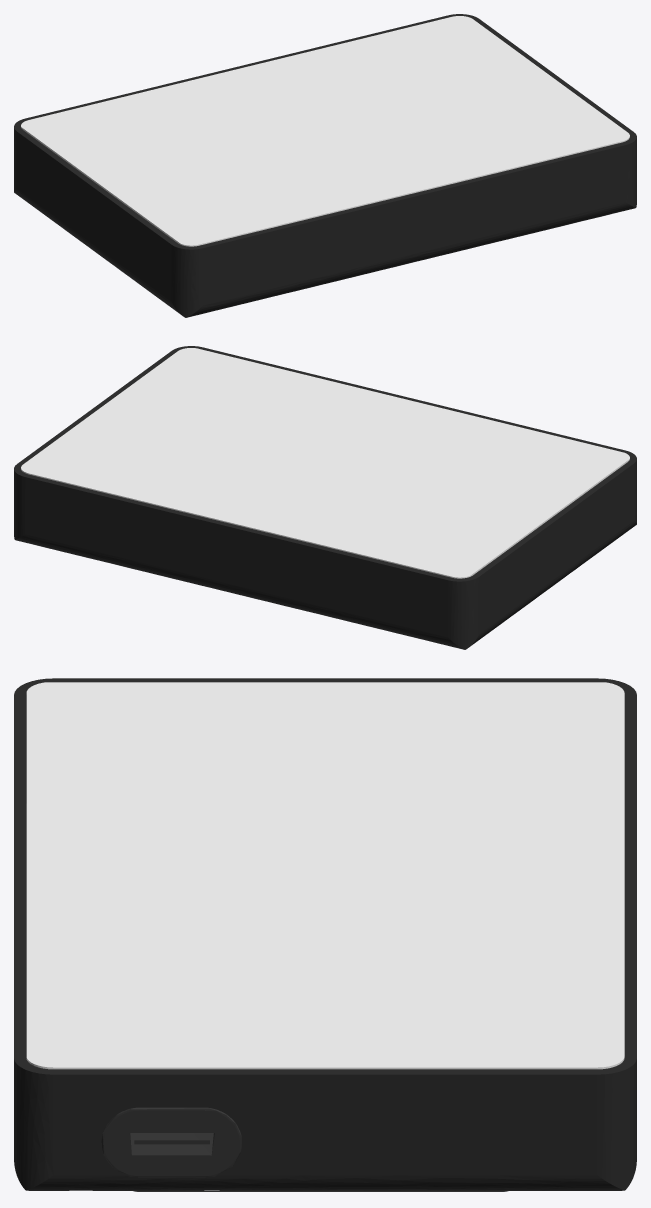
File: pukmodel.glb
The picture shows the model from 3 angles, top to bottom: view 1: azimuth 30°, elevation 25°; view 2: azimuth 150°, elevation 25°; view 3: azimuth 270°, elevation 25°; orthographic projection. The views are drawn at different scales.
Visible parts, largest first — view 1: pukscreen, PUKV7_LATEST, Cube; view 2: pukscreen, PUKV7_LATEST, Cube; view 3: pukscreen, PUKV7_LATEST, Cube, Female_USB_C_Connector.001.
Boxes of the visible parts, left/top/right/bottom form: pukscreen: left=59, top=30, right=587, bottom=229; PUKV7_LATEST: left=14, top=14, right=636, bottom=317; Cube: left=21, top=16, right=629, bottom=246; pukscreen: left=61, top=364, right=589, bottom=563; PUKV7_LATEST: left=14, top=346, right=636, bottom=649; Cube: left=21, top=348, right=629, bottom=578; pukscreen: left=69, top=706, right=588, bottom=1040; PUKV7_LATEST: left=14, top=678, right=636, bottom=1190; Cube: left=26, top=682, right=624, bottom=1069; Female_USB_C_Connector.001: left=101, top=1107, right=241, bottom=1177.
Bounding box in the file's own units: 94.71 × 17.04 × 62.8.
7 materials, 1 textured.
